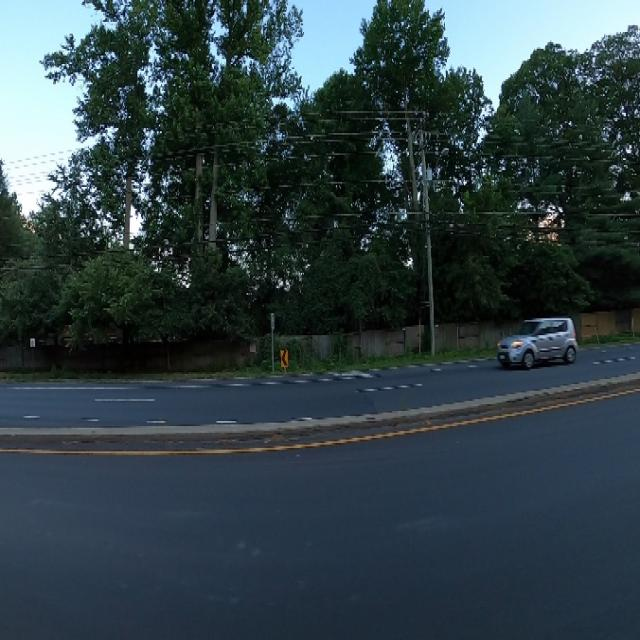car: (487, 296, 582, 386)
